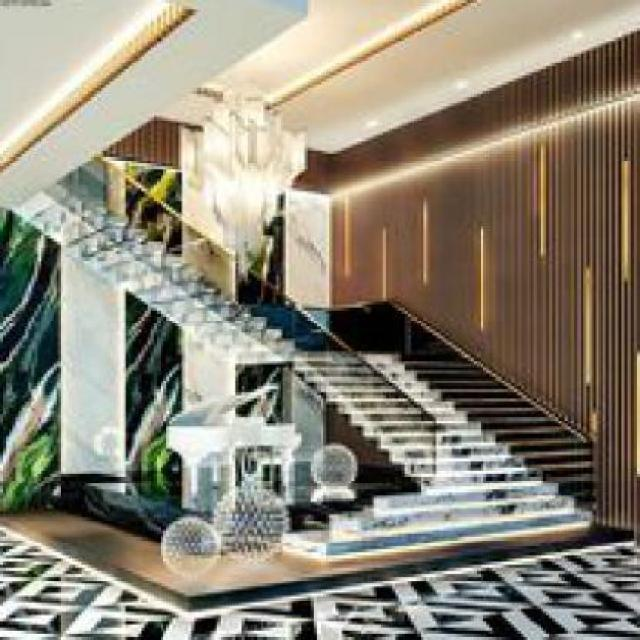stair: (276, 304, 581, 574)
